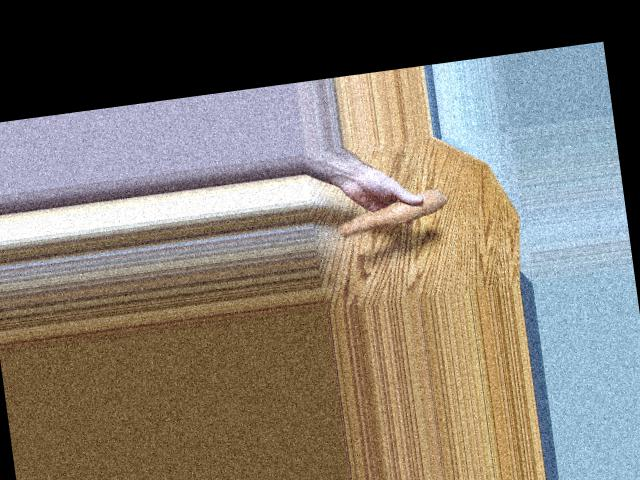sweet_potato: (336, 197, 447, 232)
